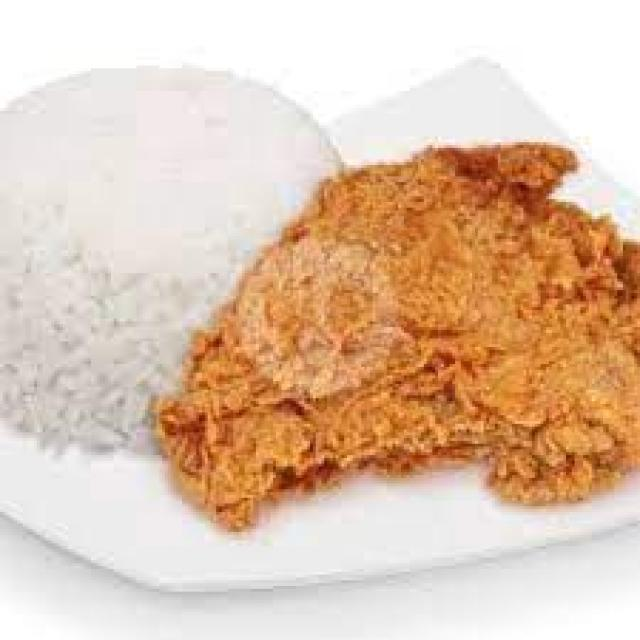Frango: (219, 169, 640, 519)
